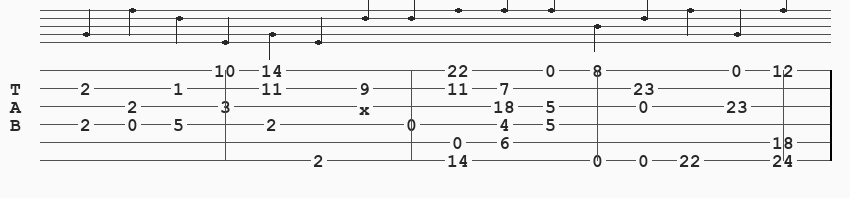0: (127, 116, 142, 132), (406, 116, 421, 132), (452, 134, 467, 150), (545, 62, 560, 78), (592, 152, 607, 168), (638, 152, 653, 168), (638, 98, 653, 114), (731, 62, 746, 78)
1: (173, 80, 188, 96)
10: (214, 62, 240, 78)
11: (261, 80, 287, 96), (447, 80, 473, 96)
12: (772, 62, 798, 78)
14: (261, 62, 287, 78), (447, 152, 473, 168)
18: (493, 98, 519, 114), (772, 134, 798, 150)
2: (80, 116, 95, 132), (80, 80, 95, 96), (127, 98, 142, 114), (266, 116, 281, 132), (313, 152, 328, 168)
22: (447, 62, 473, 78), (679, 152, 705, 168)
23: (633, 80, 659, 96), (726, 98, 752, 114)
24: (772, 152, 798, 168)
3: (220, 98, 235, 114)
4: (499, 116, 514, 132)
5: (173, 116, 188, 132), (545, 98, 560, 114), (545, 116, 560, 132)
6: (499, 134, 514, 150)
7: (499, 80, 514, 96)
8: (592, 62, 607, 78)
9: (359, 80, 374, 96)
x: (359, 100, 374, 112)
